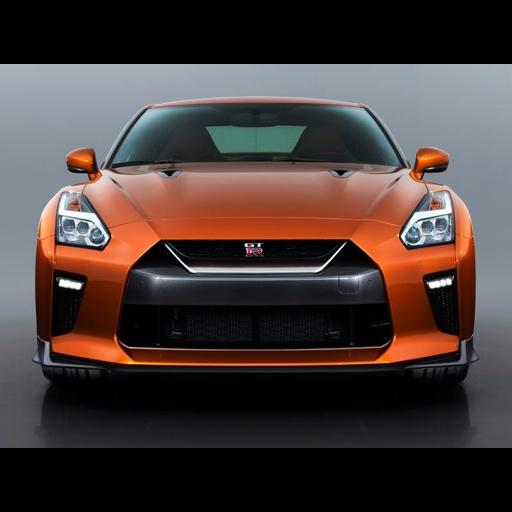sedan: (33, 97, 478, 381)
